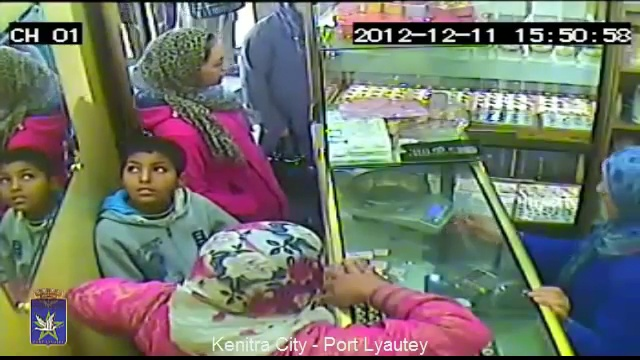face: (125, 149, 173, 205), (0, 156, 42, 209), (198, 46, 229, 83)
